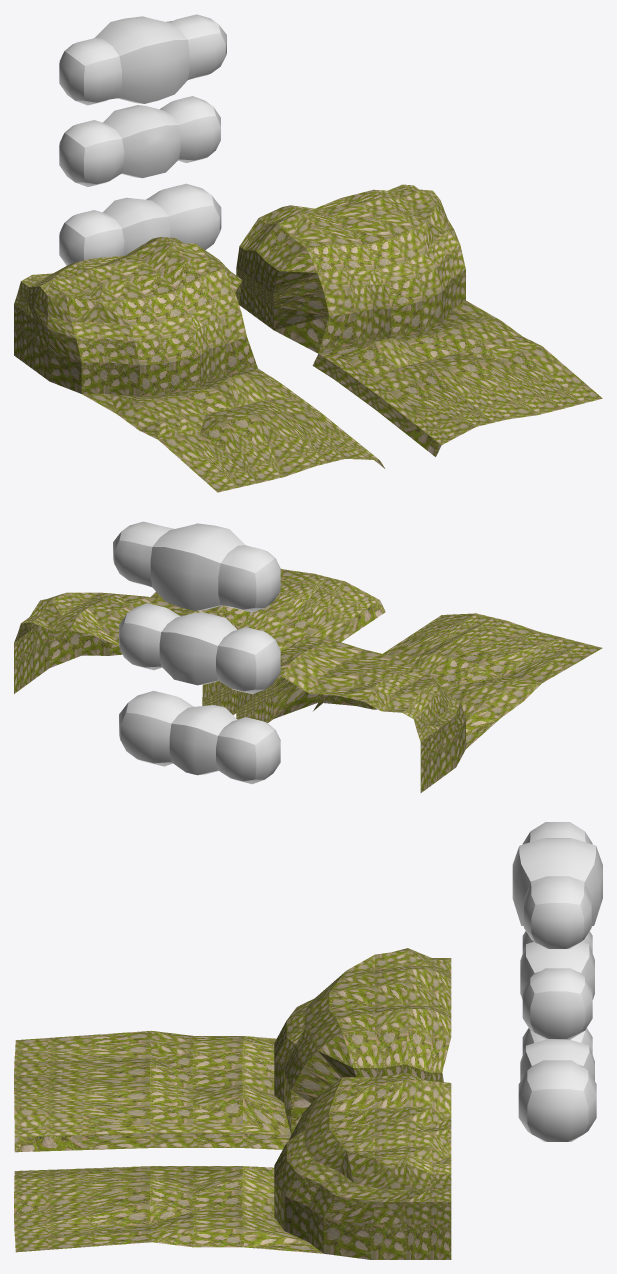
File: monte.fbx
3 views of the same model, one above another, from view 1: azimuth 30°, elevation 25°; view 2: azimuth 150°, elevation 25°; view 3: azimuth 270°, elevation 25° (orthographic). The views are drawn at different scales.
Parts seen in each view (by area): view 1: Plane006, Plane001, Box004, Box003, Box002; view 2: Plane001, Plane006, Box004, Box002, Box003; view 3: Plane006, Plane001, Box004, Box002, Box003.
Boxes of the visible parts, x1=… form: Plane006: x1=236, y1=184, x2=602, y2=456; Plane001: x1=14, y1=237, x2=384, y2=492; Box004: x1=59, y1=14, x2=226, y2=105; Box003: x1=59, y1=96, x2=220, y2=186; Box002: x1=59, y1=183, x2=221, y2=265; Plane001: x1=236, y1=613, x2=602, y2=792; Plane006: x1=14, y1=569, x2=385, y2=715; Box004: x1=113, y1=521, x2=280, y2=612; Box002: x1=119, y1=691, x2=280, y2=784; Box003: x1=119, y1=603, x2=280, y2=694; Plane006: x1=14, y1=1073, x2=451, y2=1259; Plane001: x1=14, y1=948, x2=451, y2=1152; Box004: x1=512, y1=822, x2=602, y2=948; Box002: x1=518, y1=1028, x2=596, y2=1141; Box003: x1=520, y1=931, x2=594, y2=1039.
Size of the model in its own units: 265 by 295 by 168.
